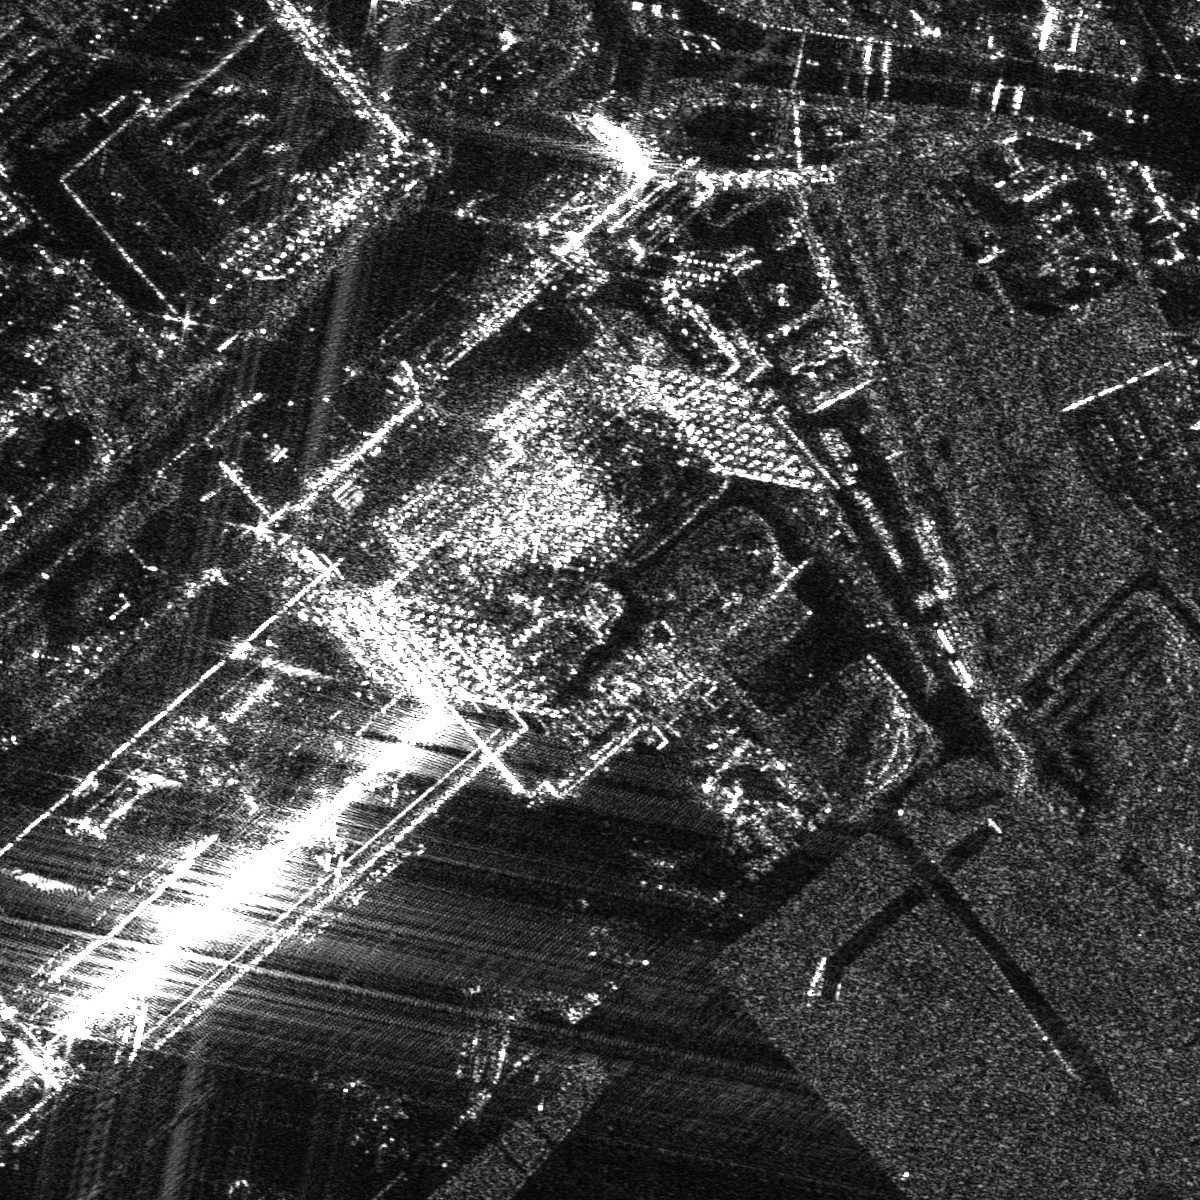Boeing737: (574, 891, 640, 971), (635, 845, 705, 905)
other: (338, 1077, 412, 1165)
